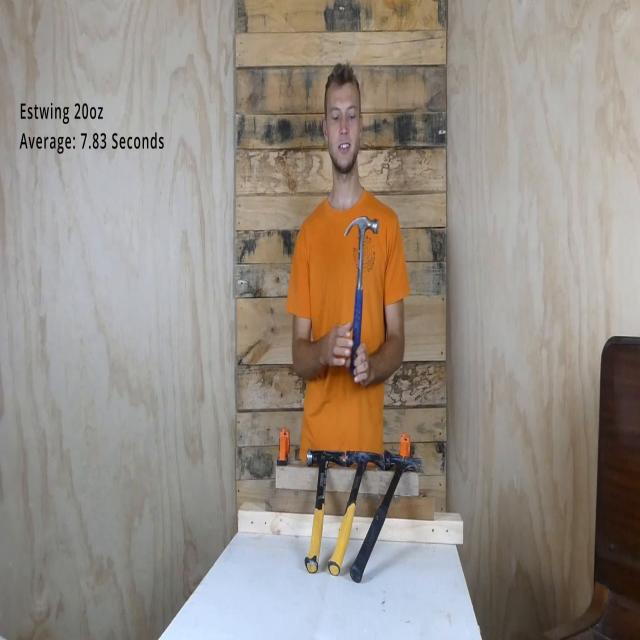hammer: (341, 452, 422, 584), (327, 451, 382, 577), (343, 215, 380, 379), (302, 449, 346, 582)
